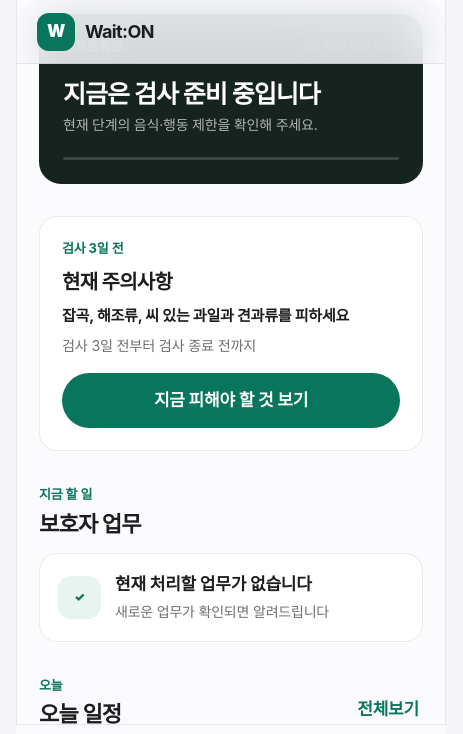
it: CaregiverJourneyApp › 딸기 검색 결과를 허가 표현 없이 보여준다
The width and height of the screenshot is (463, 734).
(page scrolled)
Click the button "지금 피해야 할 것 보기": (231, 400) [62,373,400,428]
(page scrolled)
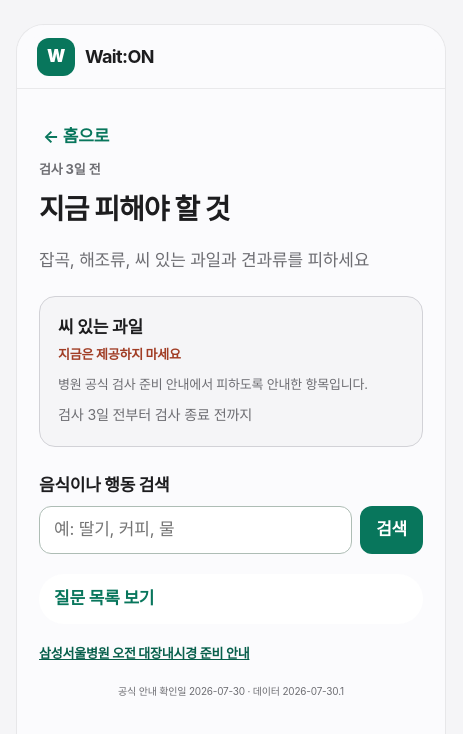
In the search field labelled "음식이나 행동 검색": (196, 530) [39,506,352,554], type "딸기"
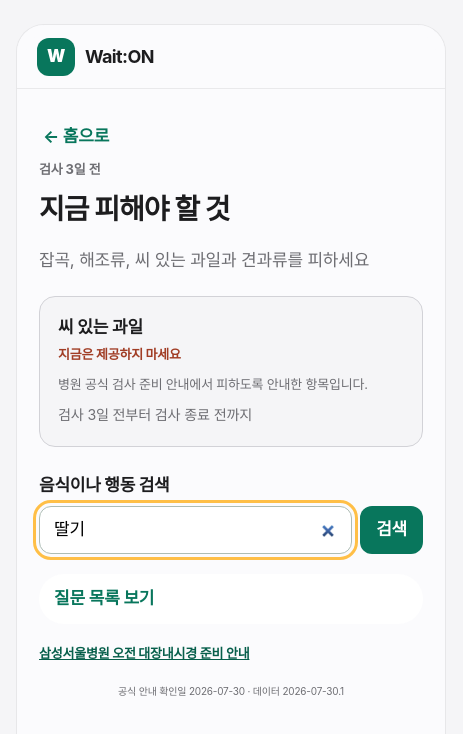
Click the button "검색": (392, 530) [360,506,423,554]
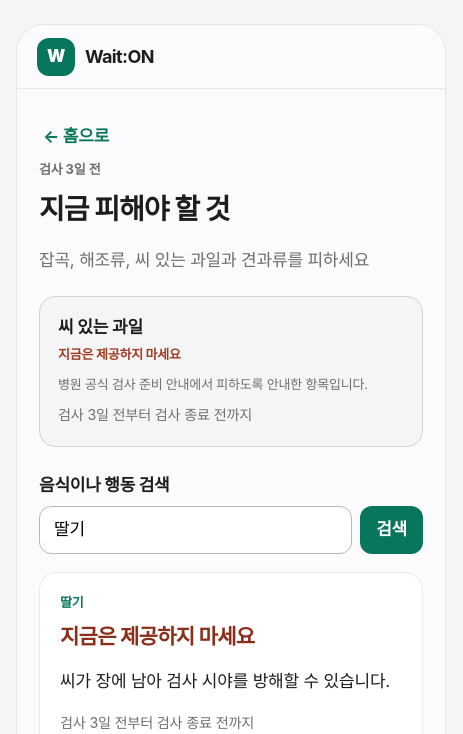
Check: the heading "지금은 제공하지 마세요" is shown, box [60,624,254,649]
